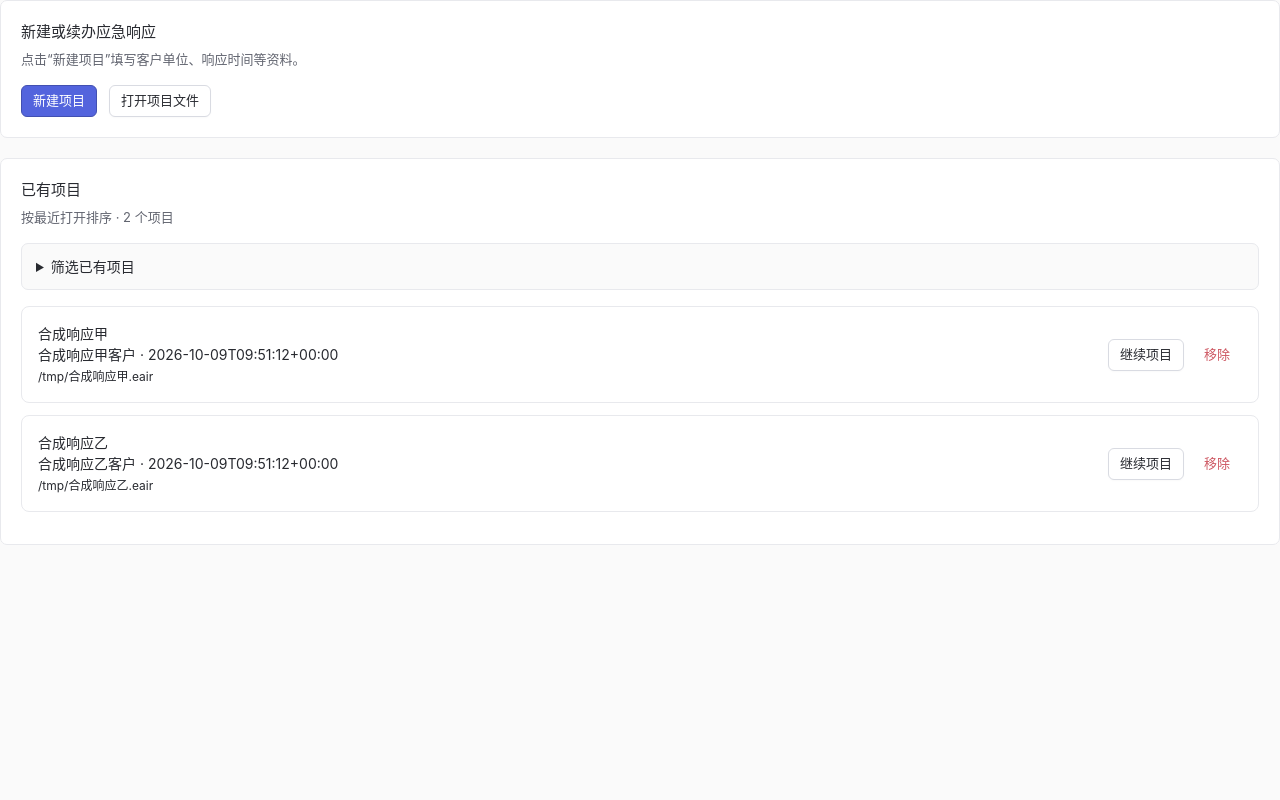
Test: requires confirmation to remove only the selected catalog entry and refreshes the list
Click the button with aria-label "从列表移除 合成响应甲" at (1217, 354), box x1=1192 y1=338 x2=1242 y2=370
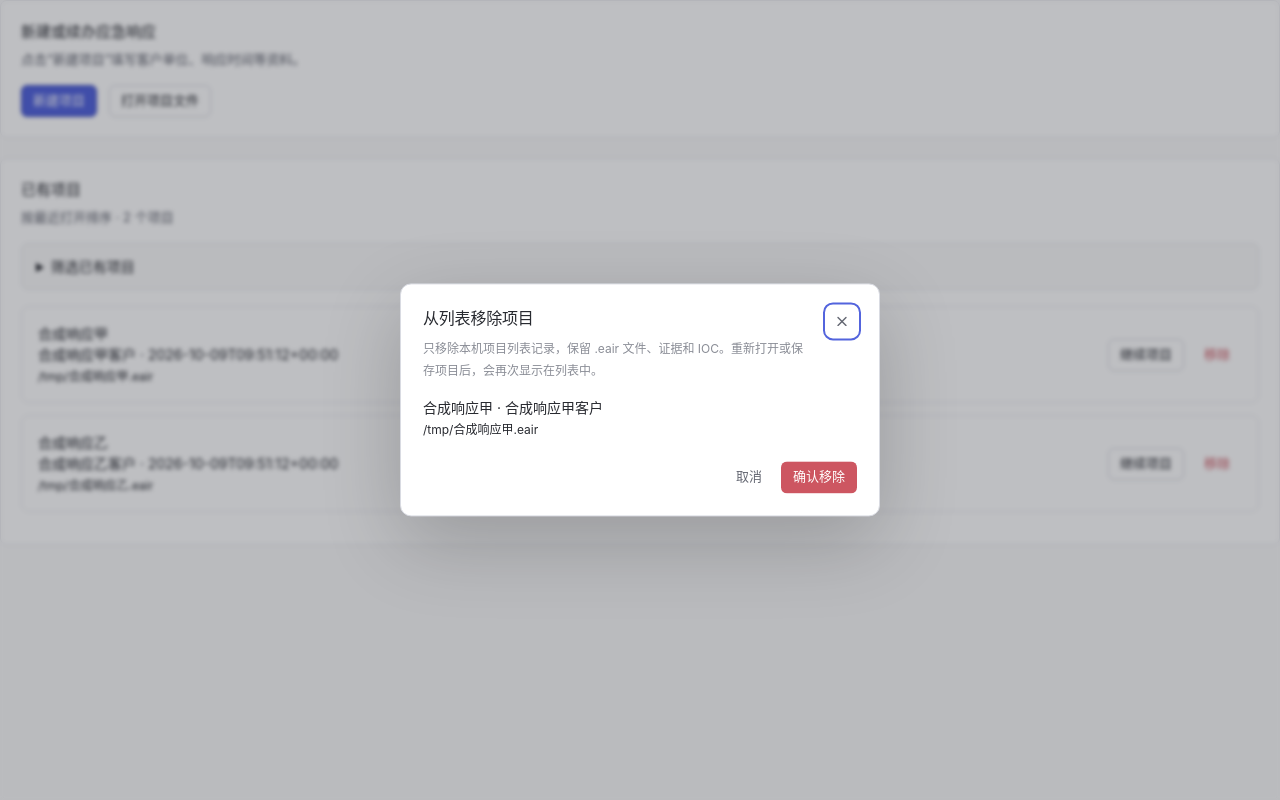
Now the text "只移除本机项目列表记录，保留 .eair 文件、证据和 IOC。重新打开或保存项目后，会再次显示在列表中。" is shown, box x1=423 y1=338 x2=815 y2=382
Click the button "取消" at (749, 478), box x1=724 y1=462 x2=774 y2=494
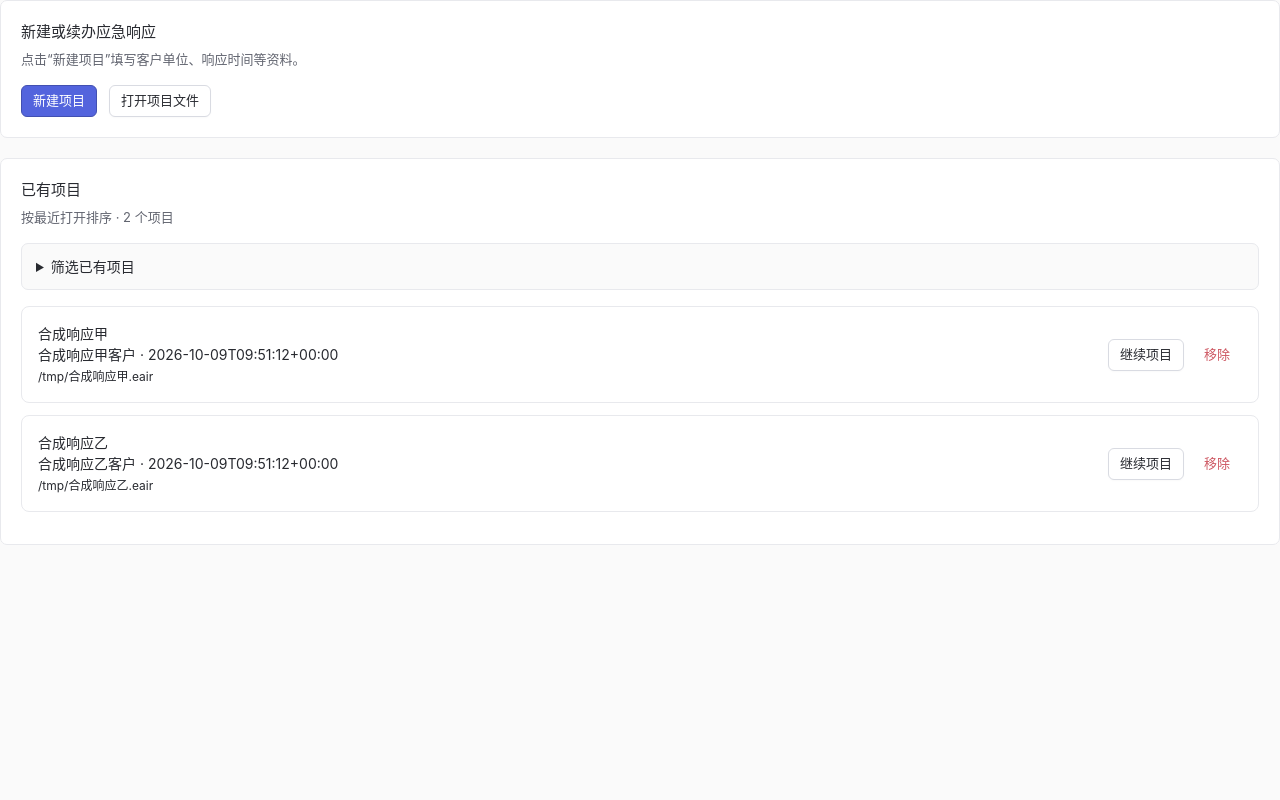
Expected: the heading "合成响应甲" is shown, x1=38 y1=325 x2=108 y2=342
Click the button with aria-label "从列表移除 合成响应甲" at (1217, 354), box x1=1192 y1=338 x2=1242 y2=370
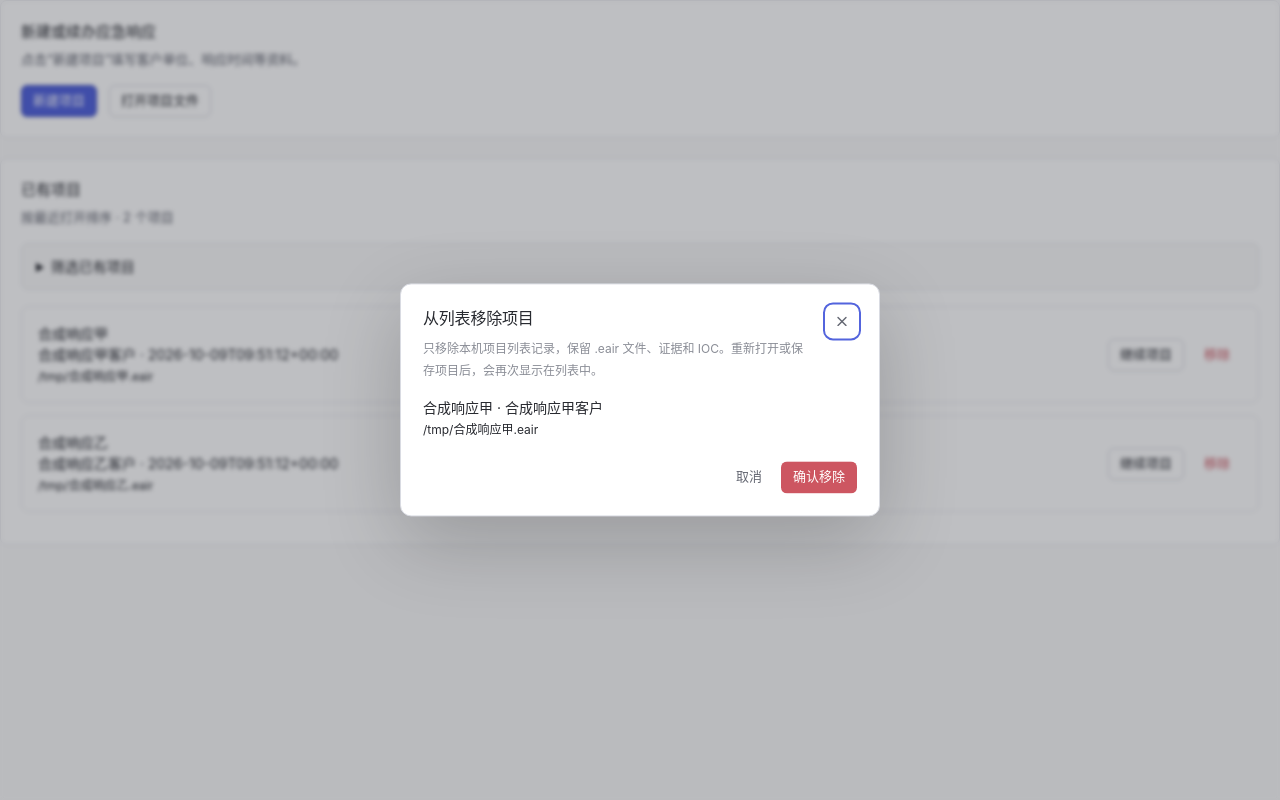
Click the button "确认移除" at (819, 478), box x1=781 y1=462 x2=857 y2=494
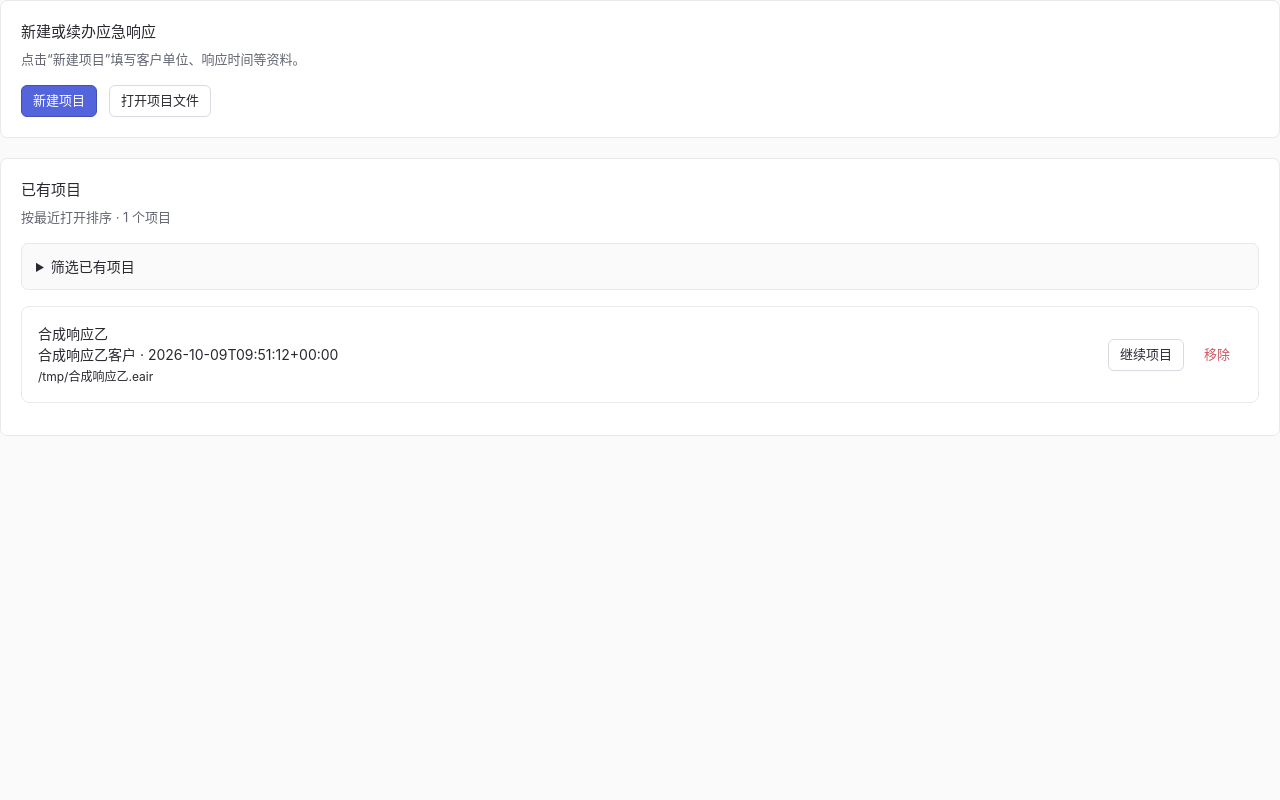
Now the heading "合成响应甲" is gone
Now the dialog is gone
Now the text "按最近打开排序 · 1 个项目" is shown, box x1=21 y1=208 x2=171 y2=224
